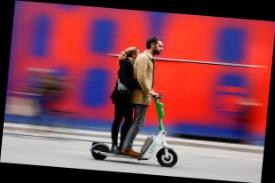multiple: (86, 31, 192, 169)
